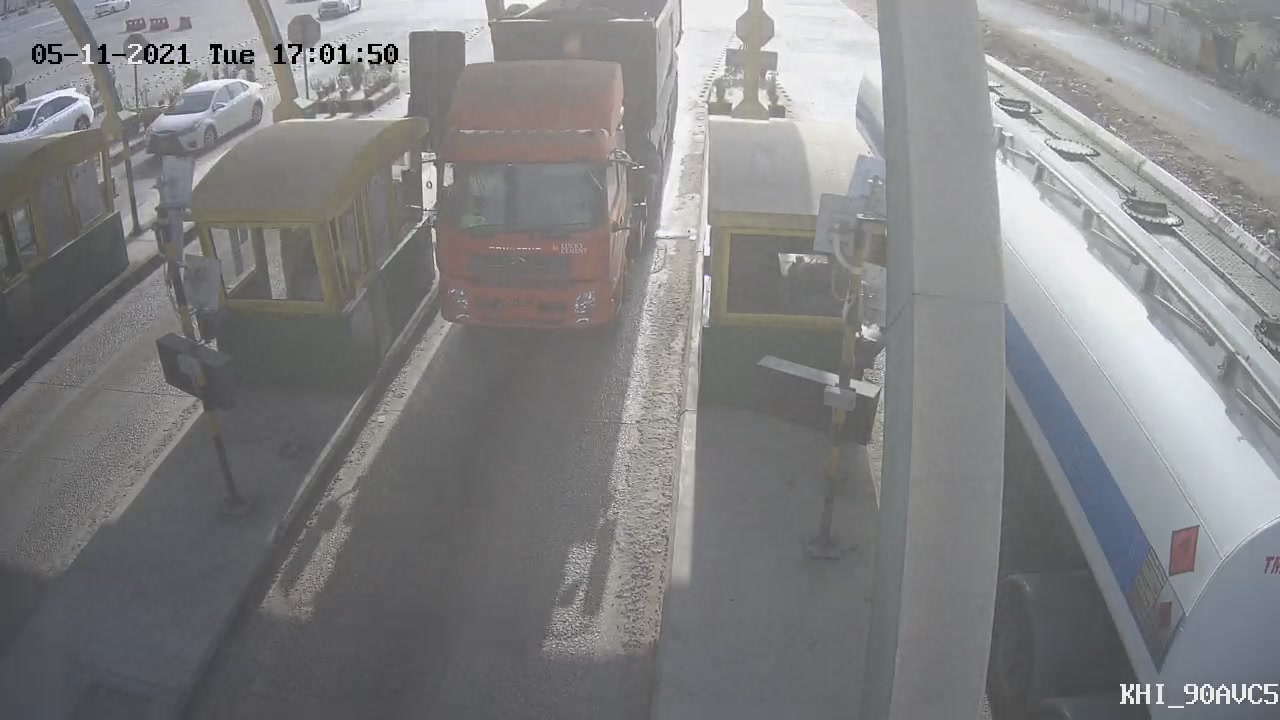F6: (382, 1, 703, 365)
